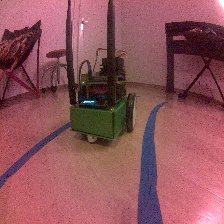rob: (68, 56, 137, 144)
